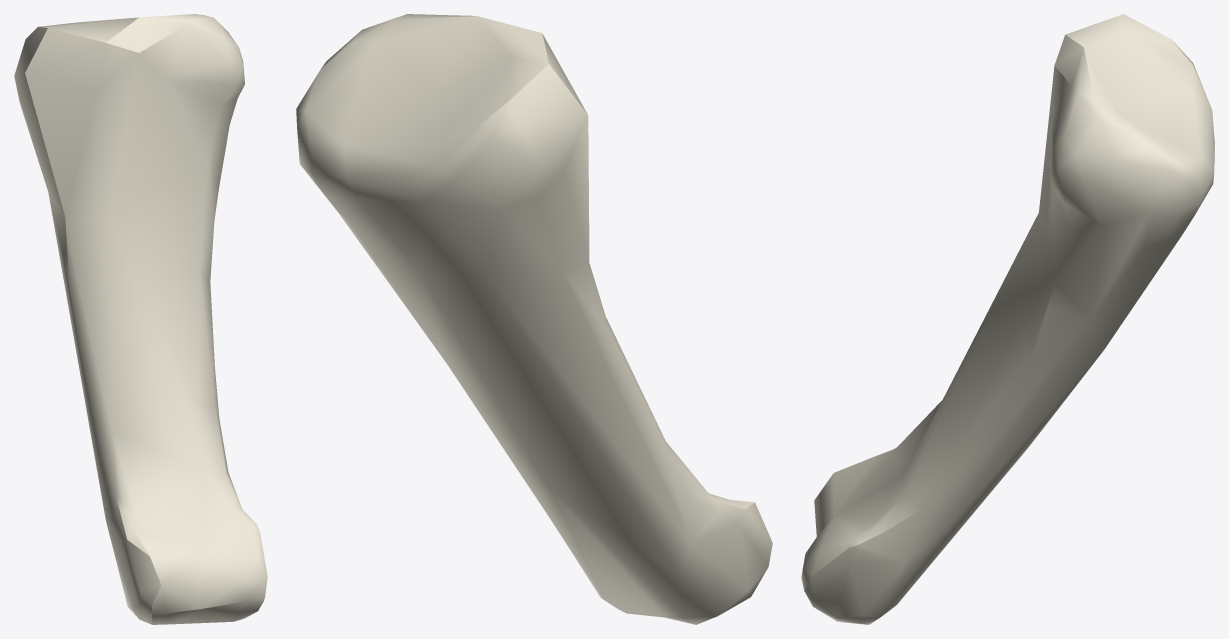
File: fma66791_fj3314.glb
3 views of the same model, side by side, from view 1: azimuth 30°, elevation 25°; view 2: azimuth 150°, elevation 25°; view 3: azimuth 270°, elevation 25° (orthographic). The views are drawn at different scales.
Parts seen in each view (by area): view 1: FMA66791_FJ3314; view 2: FMA66791_FJ3314; view 3: FMA66791_FJ3314.
Part boxes in pixels (box(x1,y1,x2,y2)): FMA66791_FJ3314: box(14, 14, 267, 624); FMA66791_FJ3314: box(296, 14, 772, 624); FMA66791_FJ3314: box(801, 14, 1214, 624).
Bounding box in the file's own units: 0.0141 × 0.0324 × 0.0208.
